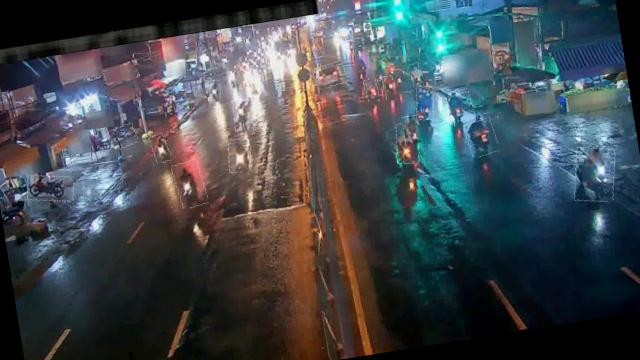Bike: (569, 144, 620, 204), (172, 159, 208, 210), (26, 170, 76, 206), (392, 122, 423, 166), (464, 118, 498, 158), (226, 137, 254, 173), (447, 92, 476, 126), (414, 84, 436, 120), (402, 114, 425, 148), (108, 123, 138, 149), (232, 99, 254, 132), (150, 133, 170, 164), (364, 77, 380, 102), (383, 74, 398, 100), (409, 62, 424, 85), (208, 78, 223, 100), (392, 68, 406, 89)
Car: (312, 61, 347, 89)
